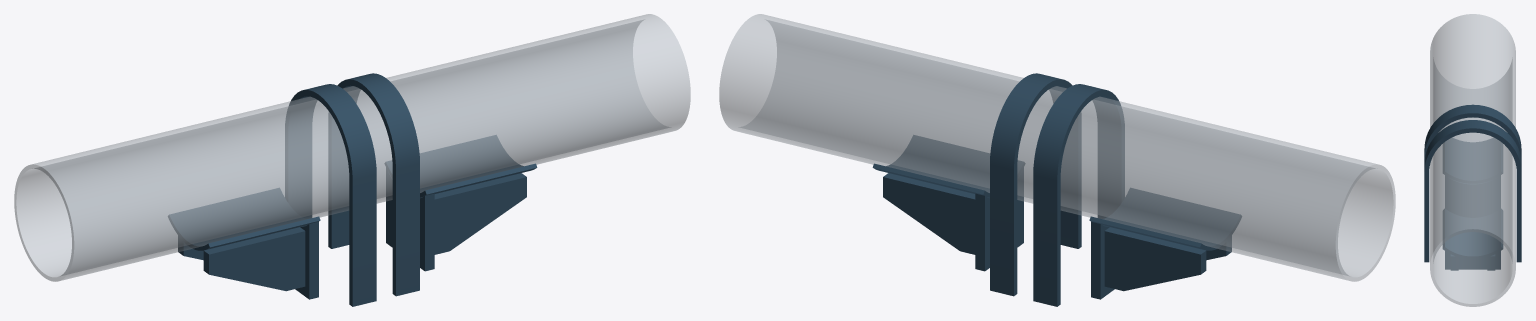
File: TS-669.00.00-14-opora-dn108-ris2.glb
The picture shows the model from 3 angles, left to right: view 1: azimuth 30°, elevation 25°; view 2: azimuth 150°, elevation 25°; view 3: azimuth 270°, elevation 25°; orthographic projection. The views are drawn at different scales.
Visible parts, largest first — view 1: truba, homut_10, homut_9, upor_8, upor_6, upor_2, upor_4, upor_1, upor_5; view 2: truba, homut_10, homut_9, upor_8, upor_7, upor_3, upor_4, upor_1, upor_5; view 3: truba, homut_9, upor_4, upor_8, upor_5, homut_10, upor_1, upor_2, upor_3.
Boxes of the visible parts, <box> form: truba: <box>14,14,690,281</box>; homut_10: <box>285,84,376,306</box>; homut_9: <box>328,73,419,296</box>; upor_8: <box>168,188,320,250</box>; upor_6: <box>203,227,305,291</box>; upor_2: <box>434,173,526,254</box>; upor_4: <box>385,135,537,197</box>; upor_1: <box>386,169,434,271</box>; upor_5: <box>295,222,318,299</box>; truba: <box>719,14,1395,281</box>; homut_10: <box>1033,84,1124,306</box>; homut_9: <box>990,73,1081,296</box>; upor_8: <box>1089,188,1241,250</box>; upor_7: <box>1104,227,1206,291</box>; upor_3: <box>883,173,975,254</box>; upor_4: <box>872,135,1024,197</box>; upor_1: <box>975,169,1023,271</box>; upor_5: <box>1091,222,1114,299</box>; truba: <box>1430,14,1515,306</box>; homut_9: <box>1424,120,1521,262</box>; upor_4: <box>1442,209,1503,259</box>; upor_8: <box>1443,138,1502,183</box>; upor_5: <box>1445,176,1500,217</box>; homut_10: <box>1424,104,1521,163</box>; upor_1: <box>1445,251,1500,269</box>; upor_2: <box>1450,254,1458,270</box>; upor_3: <box>1487,254,1495,270</box>.
Size of the model in its own units: 640 by 186 by 122.
